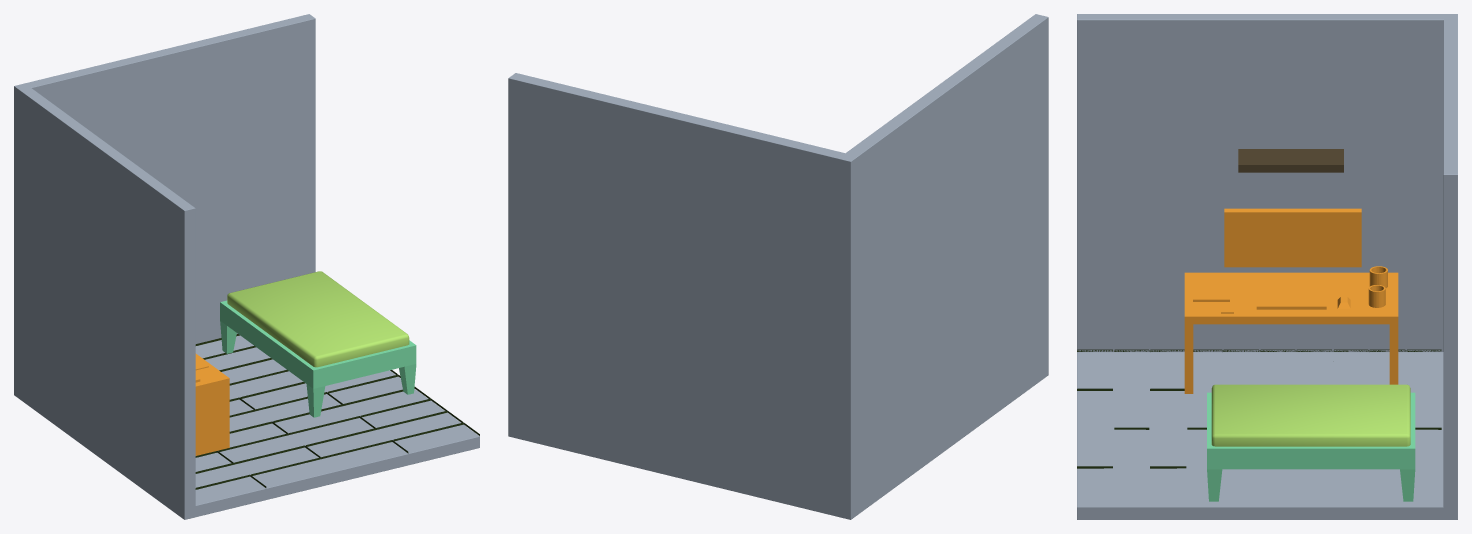
Rendered from test-room.glb.
3 views of the same model, side by side, from view 1: azimuth 30°, elevation 25°; view 2: azimuth 150°, elevation 25°; view 3: azimuth 270°, elevation 25° (orthographic). The views are drawn at different scales.
Parts seen in each view (by area): view 1: Walls, Mattress, Bed Frame, Floor, Desk; view 2: Walls; view 3: Walls, Desk, Mattress, Bed Frame, Shelf, Floor.
Boxes of the visible parts, left/top/right/bottom form: Walls: left=14, top=14, right=479, bottom=519; Mattress: left=227, top=271, right=409, bottom=367; Bed Frame: left=220, top=300, right=416, bottom=417; Floor: left=195, top=334, right=479, bottom=489; Desk: left=195, top=353, right=229, bottom=455; Walls: left=508, top=14, right=1048, bottom=519; Walls: left=1077, top=14, right=1457, bottom=519; Desk: left=1184, top=208, right=1398, bottom=393; Mattress: left=1211, top=384, right=1410, bottom=446; Bed Frame: left=1207, top=392, right=1415, bottom=501; Shelf: left=1238, top=149, right=1343, bottom=172; Floor: left=1077, top=349, right=1441, bottom=468.
Size of the model in its own units: 4 by 4 by 4.
